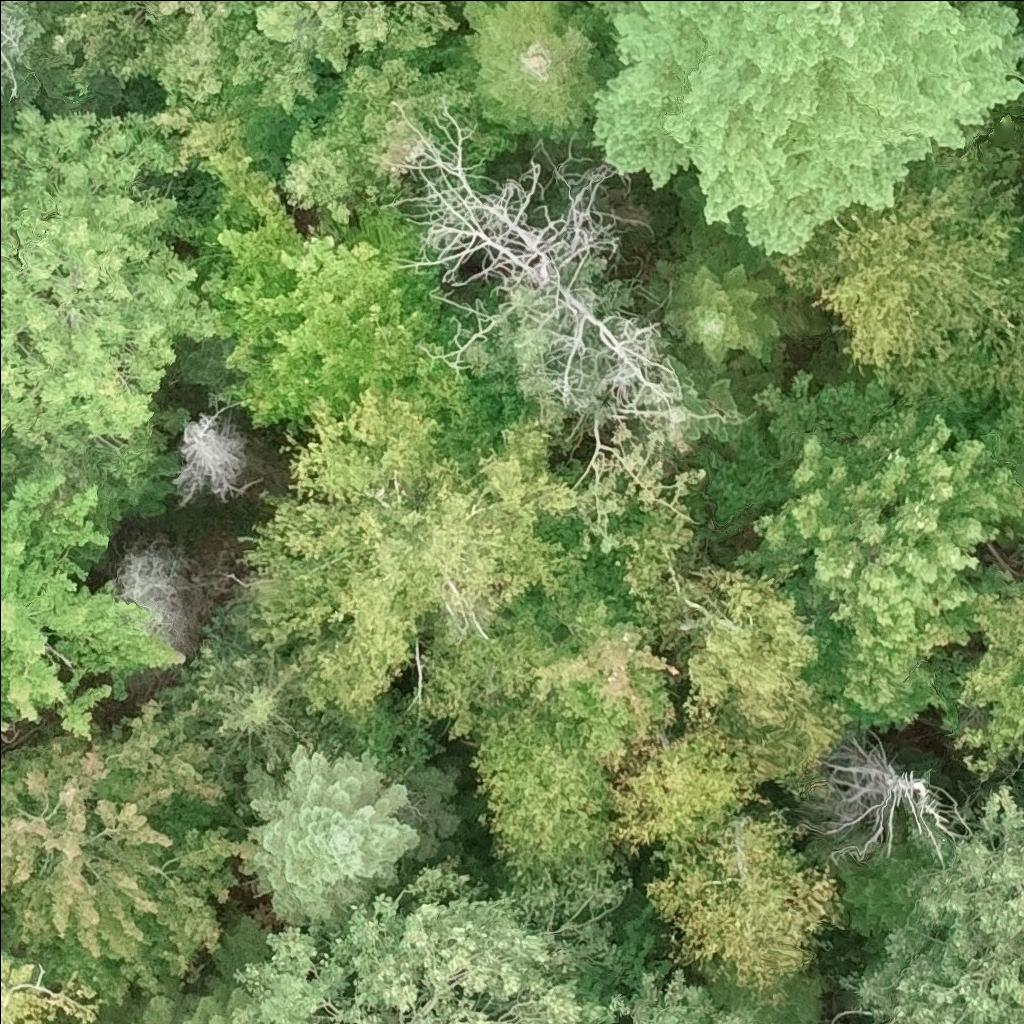crown: (237, 390, 596, 747), (588, 0, 1023, 262), (730, 367, 1023, 727), (401, 123, 698, 458), (0, 102, 227, 536), (0, 694, 254, 1002), (767, 123, 1023, 403), (231, 853, 639, 1023), (200, 190, 482, 422), (0, 469, 192, 743), (636, 560, 855, 783), (238, 740, 461, 957), (835, 781, 1023, 1023), (281, 38, 521, 224), (644, 805, 842, 1017), (49, 0, 323, 119), (649, 203, 834, 369), (520, 585, 676, 777), (469, 703, 613, 887), (440, 0, 619, 148), (153, 632, 328, 781), (809, 721, 973, 864), (608, 721, 765, 852), (250, 0, 462, 78), (827, 817, 936, 964), (150, 108, 284, 225), (958, 564, 1023, 774), (118, 534, 200, 655), (607, 967, 781, 1023), (71, 969, 251, 1023), (171, 409, 249, 503), (0, 947, 85, 1023)
